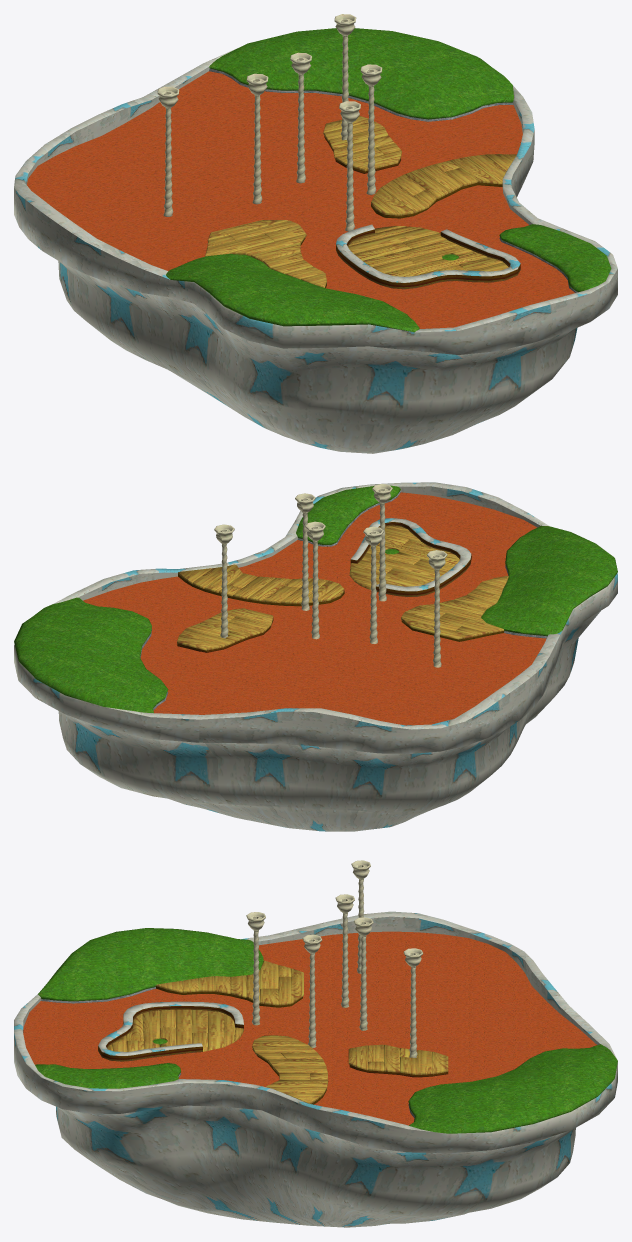
Rendered from flowerroadplanet.dae.
The picture shows the model from 3 angles, top to bottom: view 1: azimuth 30°, elevation 25°; view 2: azimuth 150°, elevation 25°; view 3: azimuth 270°, elevation 25°; orthographic projection. The views are drawn at different scales.
Visible parts, largest first — view 1: n6b5, n0b7, n2b1, n1b0, n5b2, n4b6, n7b4; view 2: n6b5, n0b7, n2b1, n1b0, n5b2, n4b6, n7b4; view 3: n6b5, n0b7, n2b1, n1b0, n5b2, n4b6.
Part boxes in pixels (bbox=[...]): n6b5: bbox=[14, 47, 617, 453]; n0b7: bbox=[27, 71, 574, 328]; n2b1: bbox=[166, 28, 611, 332]; n1b0: bbox=[205, 115, 516, 287]; n5b2: bbox=[157, 14, 382, 231]; n4b6: bbox=[300, 136, 520, 289]; n7b4: bbox=[209, 68, 577, 292]; n6b5: bbox=[14, 482, 617, 831]; n0b7: bbox=[83, 492, 546, 725]; n2b1: bbox=[14, 485, 617, 713]; n1b0: bbox=[177, 525, 508, 650]; n5b2: bbox=[214, 484, 447, 667]; n4b6: bbox=[177, 522, 504, 652]; n7b4: bbox=[140, 491, 547, 710]; n6b5: bbox=[14, 911, 617, 1227]; n0b7: bbox=[23, 931, 596, 1125]; n2b1: bbox=[35, 928, 617, 1133]; n1b0: bbox=[107, 960, 448, 1103]; n5b2: bbox=[246, 860, 423, 1057]; n4b6: bbox=[98, 986, 448, 1104].
Bounding box in the file's own units: 6239 × 4092 × 7529.
